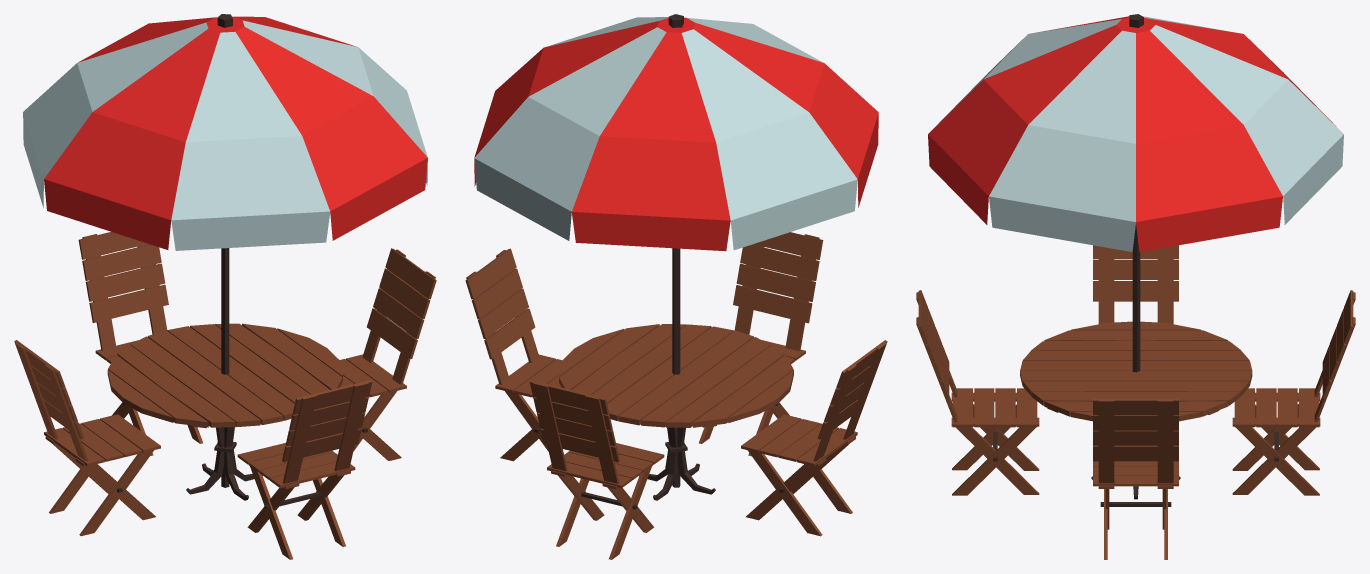
The model's file is village_pack_table_5.glb.
3 views of the same model, side by side, from view 1: azimuth 30°, elevation 25°; view 2: azimuth 150°, elevation 25°; view 3: azimuth 270°, elevation 25° (orthographic).
Parts seen in each view (by area): view 1: table 5_cloth 1_0; view 2: table 5_cloth 1_0; view 3: table 5_cloth 1_0.
Part boxes in pixels (x1,y1,x2,y2): table 5_cloth 1_0: (14, 14, 436, 559); table 5_cloth 1_0: (465, 14, 887, 559); table 5_cloth 1_0: (916, 14, 1355, 559).
Bounding box in the file's own units: 2.08 × 2.43 × 2.08.
